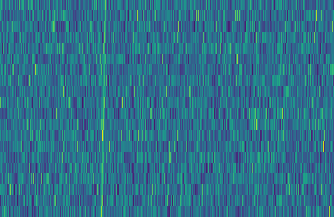signal: (94, 0, 107, 217)
